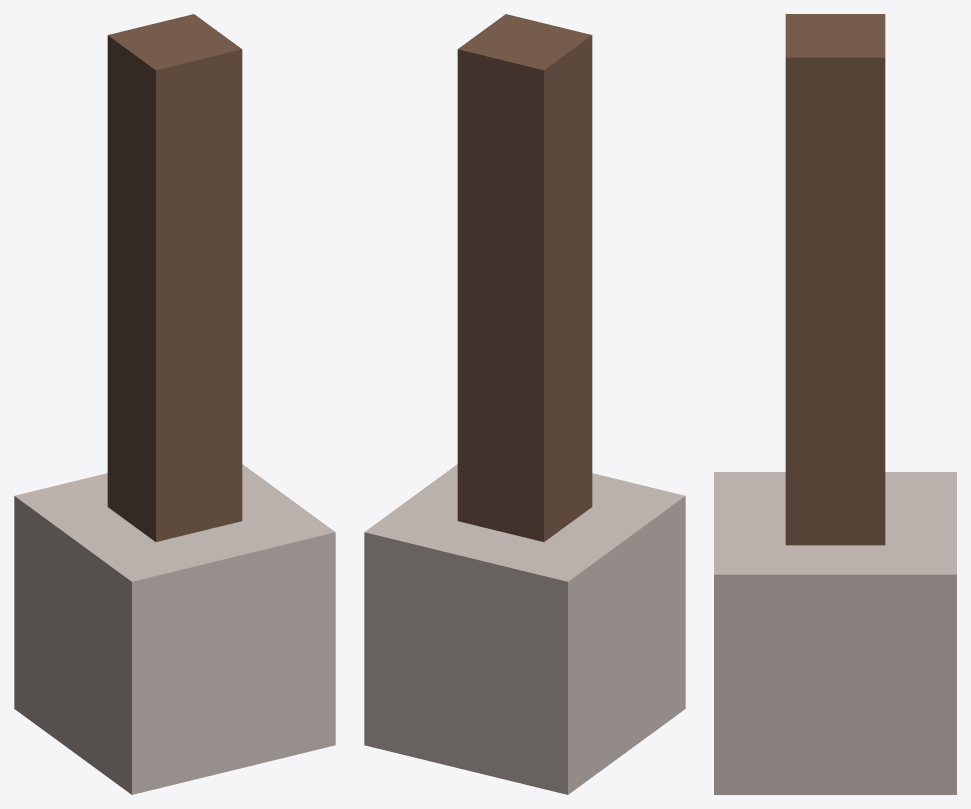
The model's file is House_structure_post_small_geo.fbx.
3 views of the same model, side by side, from view 1: azimuth 30°, elevation 25°; view 2: azimuth 150°, elevation 25°; view 3: azimuth 270°, elevation 25° (orthographic). The views are drawn at different scales.
Parts seen in each view (by area): view 1: post_short_geo; view 2: post_short_geo; view 3: post_short_geo.
Part boxes in pixels (x1,y1,x2,y2): post_short_geo: (14,14,335,794); post_short_geo: (364,14,685,794); post_short_geo: (714,14,956,794).
Bounding box in the file's own units: 70 × 225 × 70.
